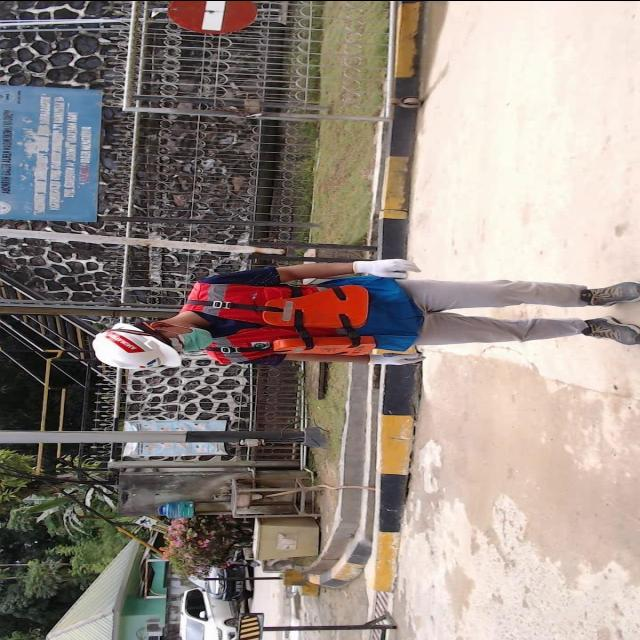jacket: (178, 274, 382, 364)
